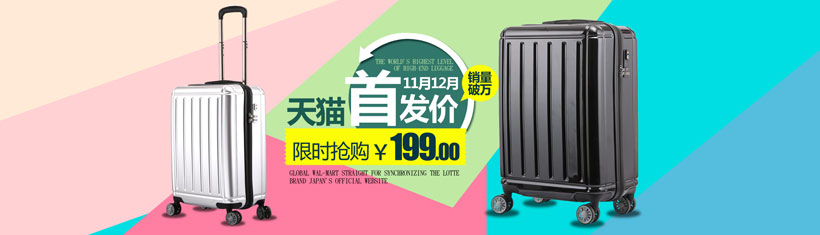suitcase: (492, 19, 638, 227), (165, 4, 273, 224)
